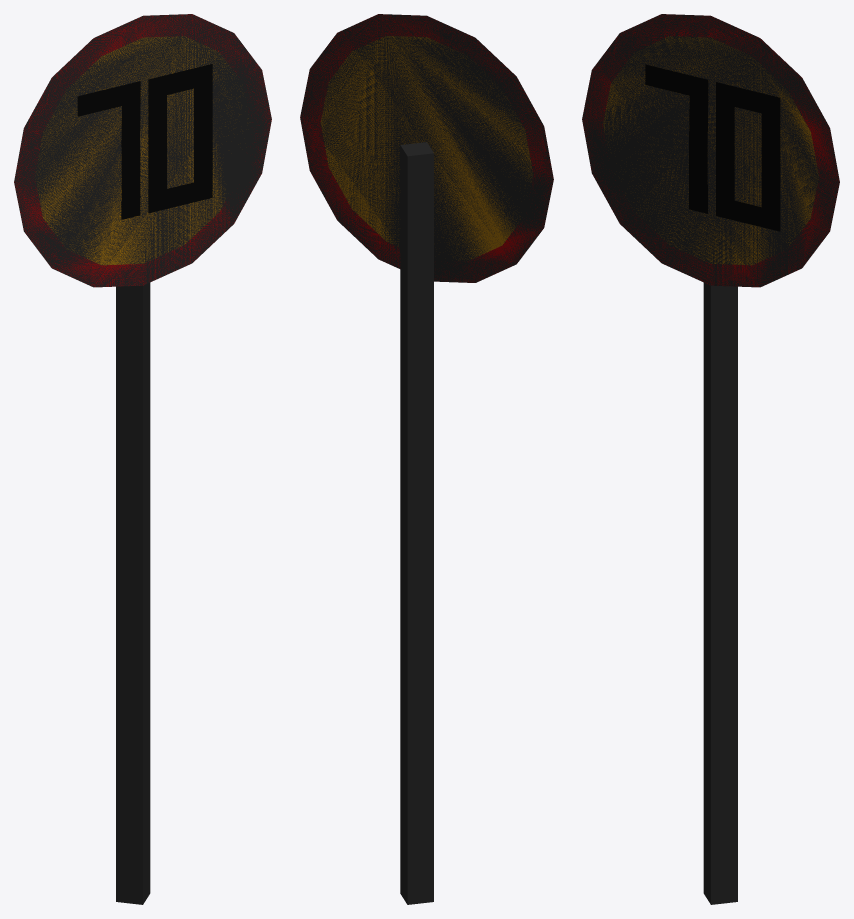
Rendered from 70kmh.obj.
3 views of the same model, side by side, from view 1: azimuth 30°, elevation 25°; view 2: azimuth 150°, elevation 25°; view 3: azimuth 330°, elevation 25° (orthographic).
Parts seen in each view (by area): view 1: Cylinder.001; view 2: Cylinder.001; view 3: Cylinder.001.
Part boxes in pixels (bbox=[...]): Cylinder.001: bbox=[14, 14, 271, 904]; Cylinder.001: bbox=[300, 14, 553, 904]; Cylinder.001: bbox=[582, 14, 839, 904].
Size of the model in its own units: 0.8957 by 2.95 by 0.1207.
